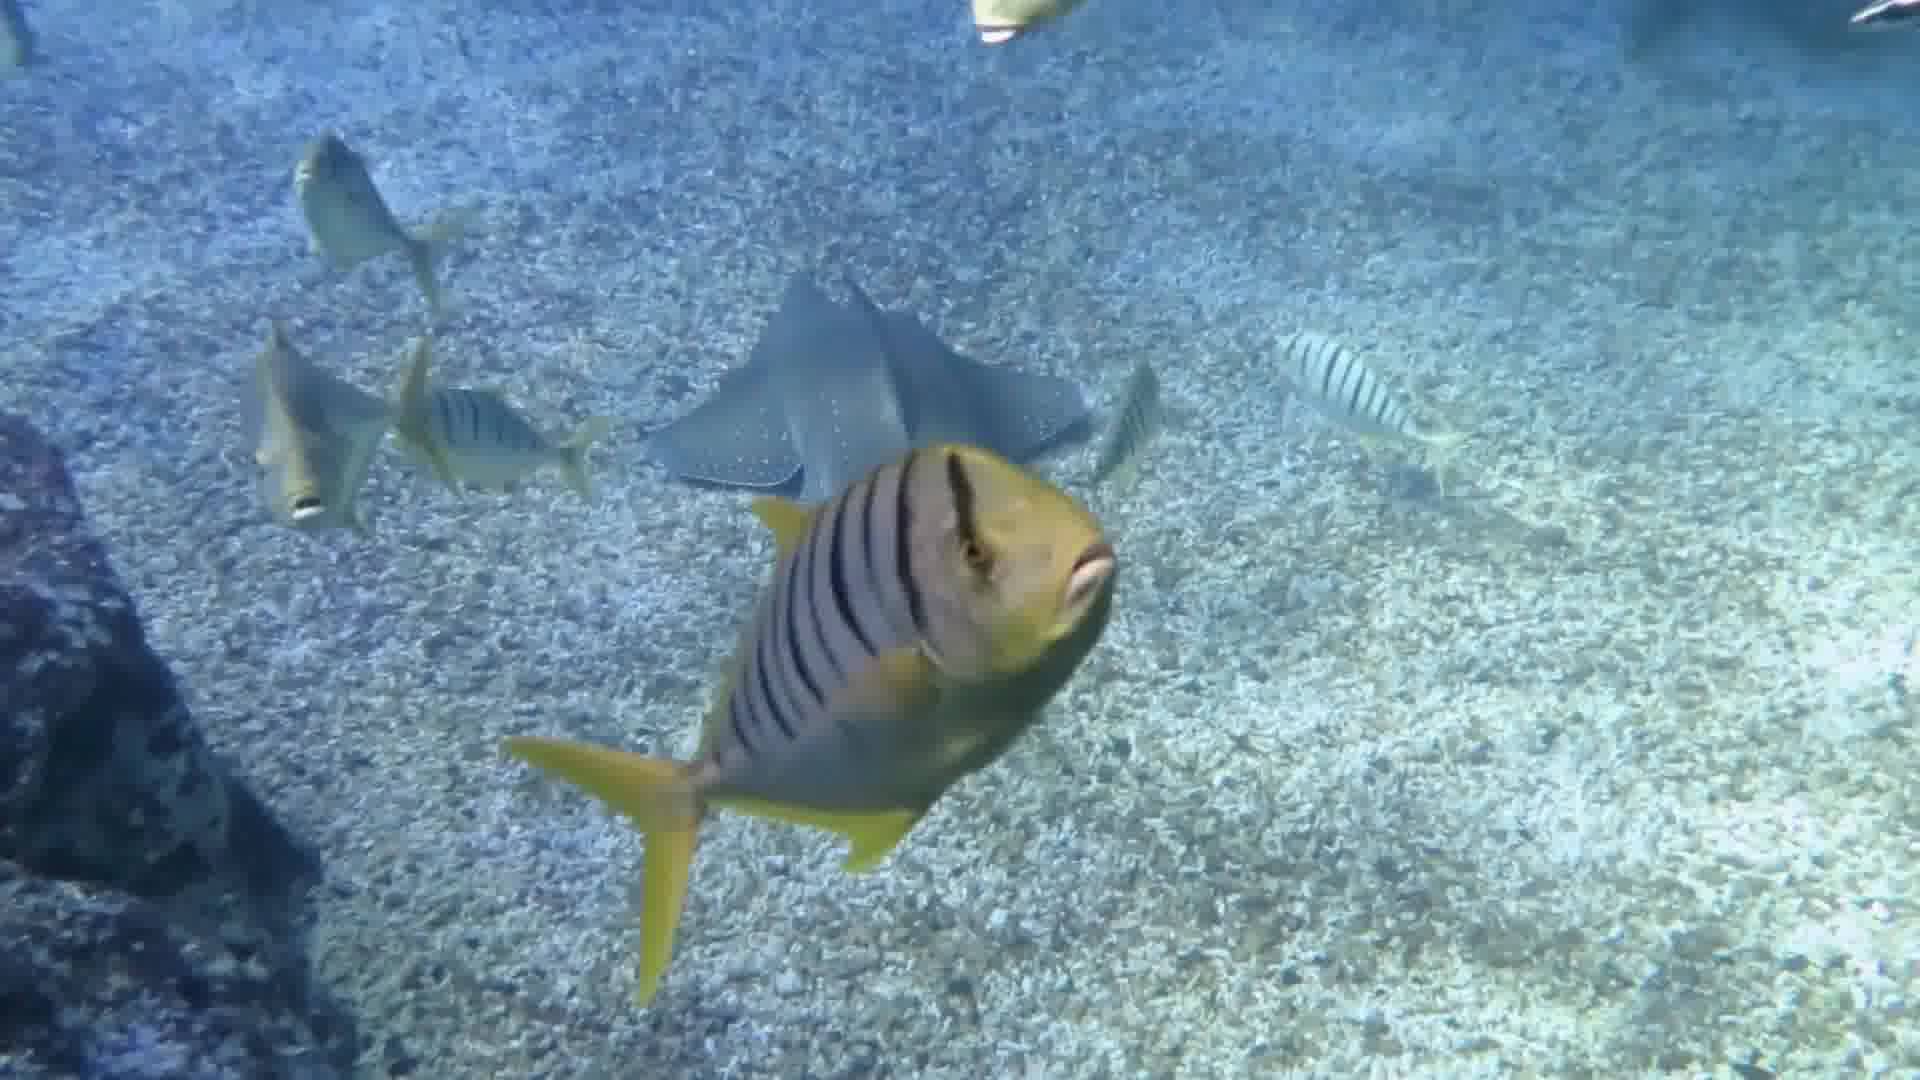Rhychobatus djiddensis: (592, 178, 1203, 491)
